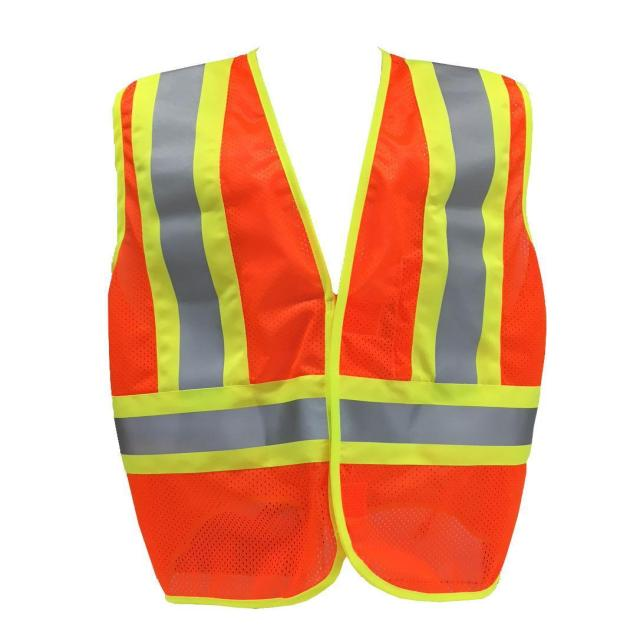Vest: (106, 47, 548, 610)
